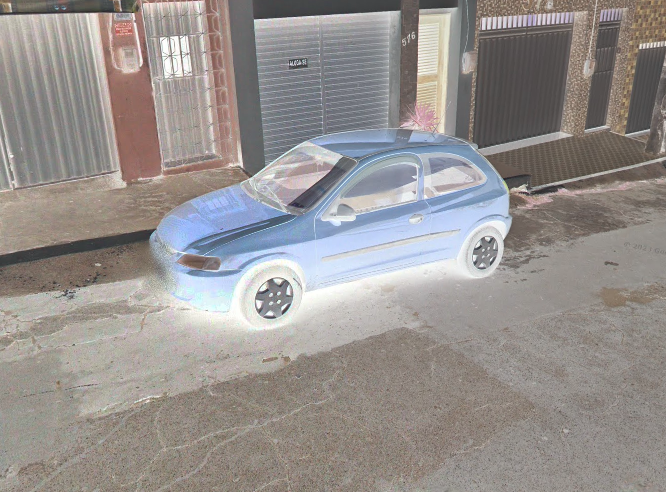car: (142, 98, 518, 329)
